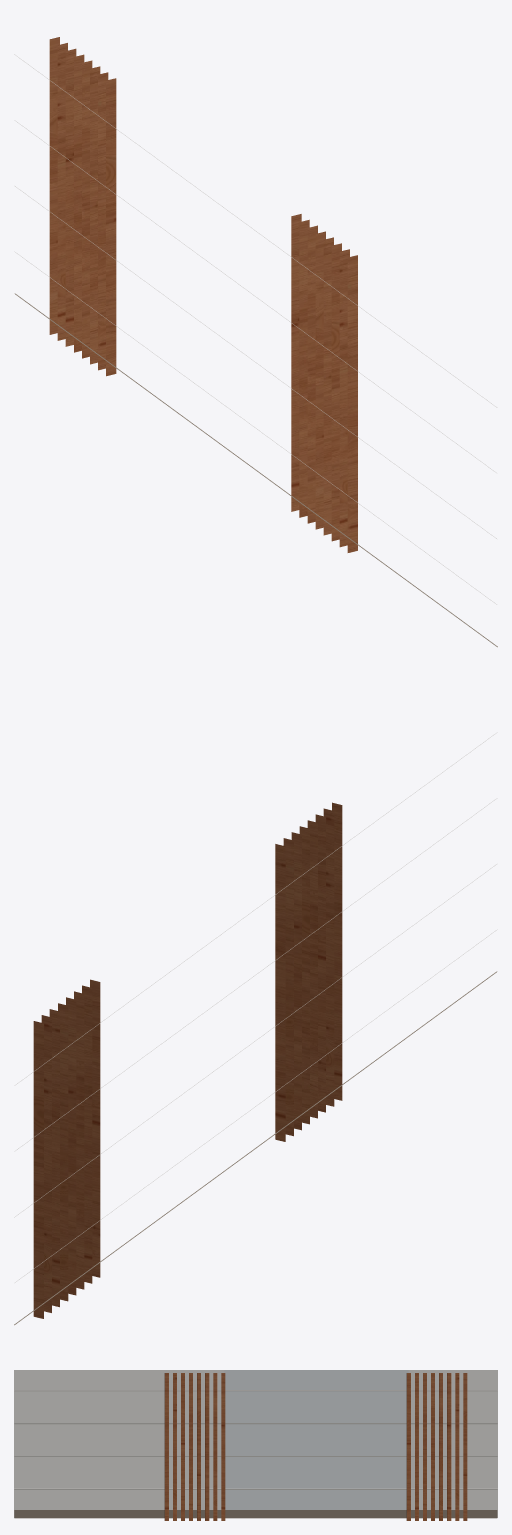
The model's file is CR_NearWall.glb.
3 views of the same model, one above another, from view 1: azimuth 30°, elevation 25°; view 2: azimuth 150°, elevation 25°; view 3: azimuth 270°, elevation 25° (orthographic). The views are drawn at different scales.
Parts seen in each view (by area): view 1: Near_Wall; view 2: Near_Wall; view 3: Near_Wall.
Boxes of the visible parts, x1=… form: Near_Wall: x1=14, y1=37, x2=497, y2=647; Near_Wall: x1=14, y1=732, x2=497, y2=1325; Near_Wall: x1=14, y1=1370, x2=497, y2=1520.
Bounding box in the file's own units: 0.1101 × 2.7 × 8.
Materials: 5 (1 with a texture image).
